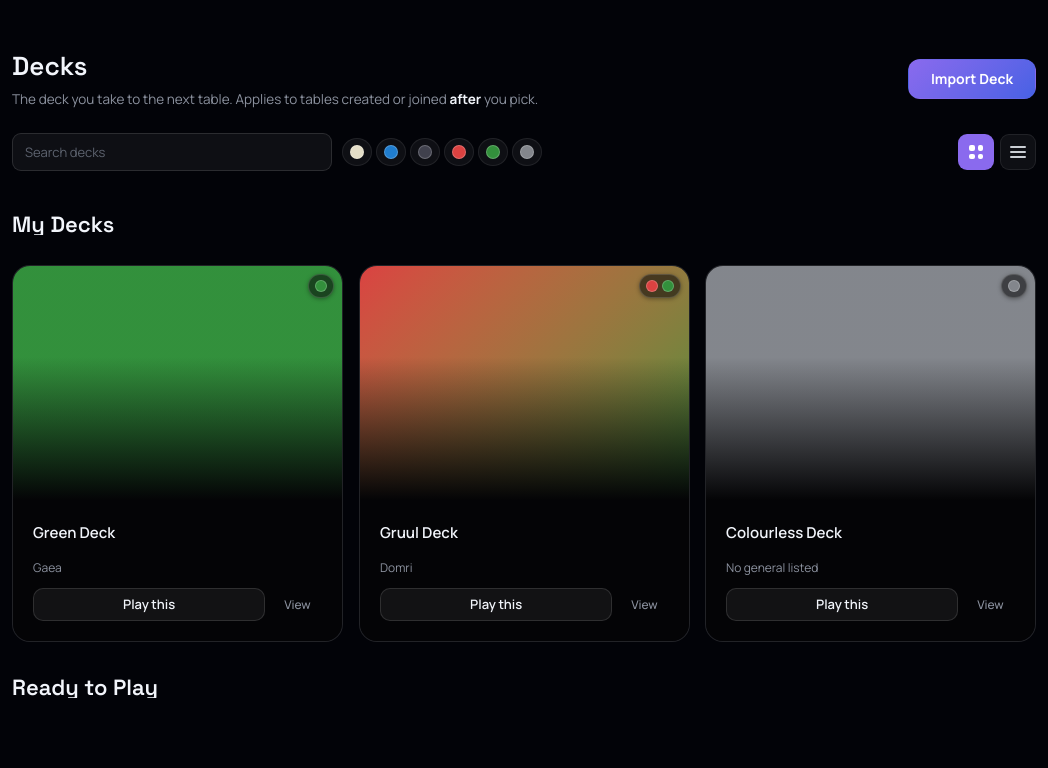
Test: DecksComponent › narrows the shelf by colour identity, matching exactly rather than merely including
Step 1. Click the 5th button with class "chip" → (493, 152), box [478,138,508,166]
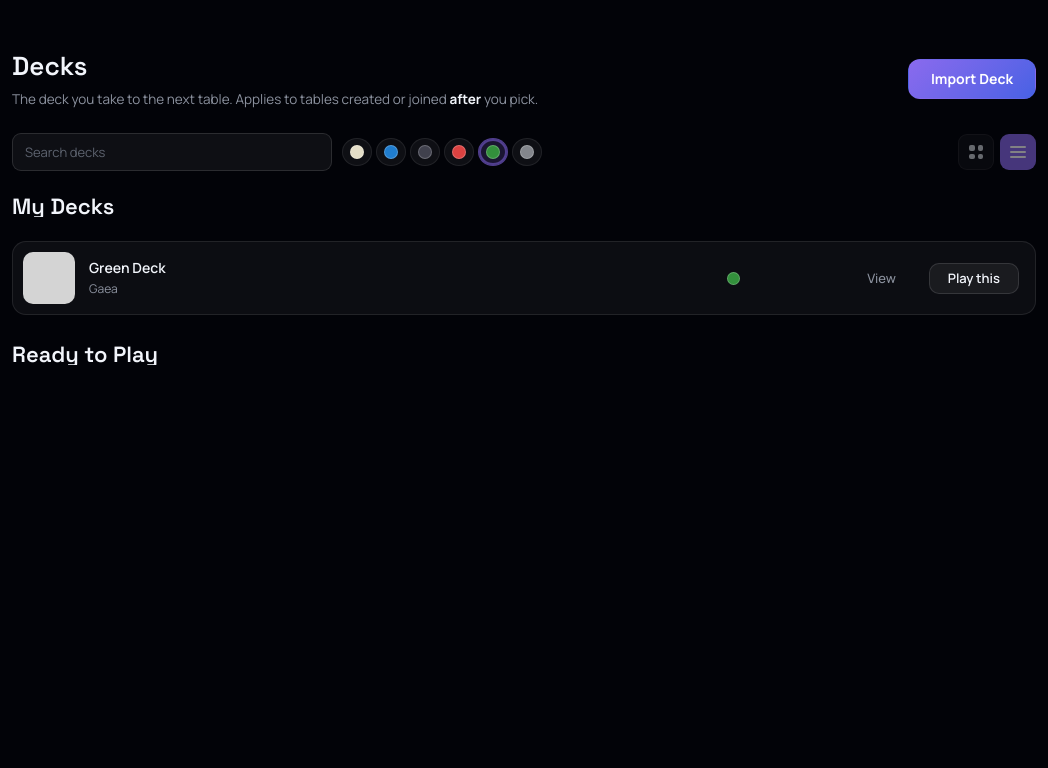
Expected: the text "Green Deck" is shown, [89,258,166,277]
Result: the text "Gruul Deck" is gone
Result: the text "Colourless Deck" is gone
